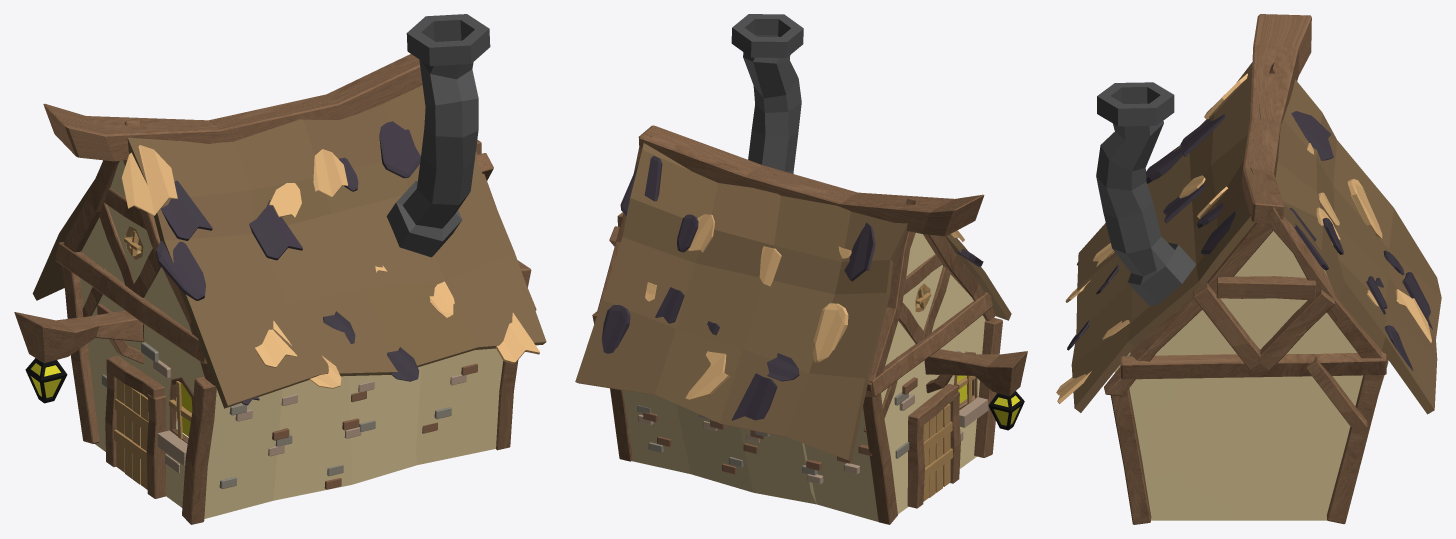
File: medieval_house_Medium_01.fbx
3 views of the same model, side by side, from view 1: azimuth 30°, elevation 25°; view 2: azimuth 150°, elevation 25°; view 3: azimuth 270°, elevation 25° (orthographic). The views are drawn at different scales.
Parts seen in each view (by area): view 1: Plane.010, Plane.011, Cylinder.001, Cube.036, Plane.009, Cube.065, Cube.004, Cube.006, Cube.101, Cube.013, Cube.003, Cube.011 (+21 smaller); view 2: Plane.013, Plane.003, Cube.036, Cylinder.001, Plane.009, Cube.065, Cube.004, Cube.013, Cube.003, Cube.006, Cube.005, Cube.113 (+20 smaller); view 3: Plane.014, Plane.013, Plane.010, Cylinder.001, Cube.036, Cube.027, Cube.028, Cube.026, Cube.025, Cube.029, Cube.030, Cube.024 (+10 smaller).
Part boxes in pixels (x1,y1,x2,y2): Plane.010: [127, 85, 546, 408]; Plane.011: [204, 348, 502, 518]; Cylinder.001: [386, 14, 490, 257]; Cube.036: [43, 54, 422, 161]; Plane.009: [80, 160, 204, 507]; Cube.065: [14, 310, 144, 363]; Cube.004: [55, 242, 207, 364]; Cube.006: [182, 376, 216, 524]; Cube.101: [121, 145, 177, 215]; Cube.013: [61, 265, 99, 443]; Cube.003: [63, 120, 140, 252]; Cube.011: [146, 394, 166, 498]; Plane.013: [575, 143, 907, 461]; Plane.003: [622, 390, 878, 521]; Cube.036: [638, 125, 984, 236]; Cylinder.001: [731, 14, 803, 173]; Plane.009: [881, 232, 985, 514]; Cube.065: [924, 349, 1027, 396]; Cube.004: [865, 292, 992, 396]; Cube.013: [863, 375, 897, 524]; Cube.003: [869, 198, 918, 379]; Cube.006: [974, 318, 1002, 457]; Cube.005: [923, 234, 995, 320]; Cube.113: [812, 303, 848, 362]; Plane.014: [1129, 231, 1362, 520]; Plane.013: [1275, 79, 1441, 414]; Plane.010: [1071, 62, 1261, 412]; Cylinder.001: [1096, 82, 1195, 305]; Cube.036: [1241, 14, 1311, 223]; Cube.027: [1120, 352, 1386, 379]; Cube.028: [1104, 222, 1273, 396]; Cube.026: [1267, 201, 1382, 358]; Cube.025: [1326, 349, 1387, 523]; Cube.029: [1110, 388, 1151, 524]; Cube.030: [1216, 276, 1316, 300]; Cube.024: [1257, 290, 1334, 370].
Bounding box in the file's own units: 1431 × 1361 × 1174.
